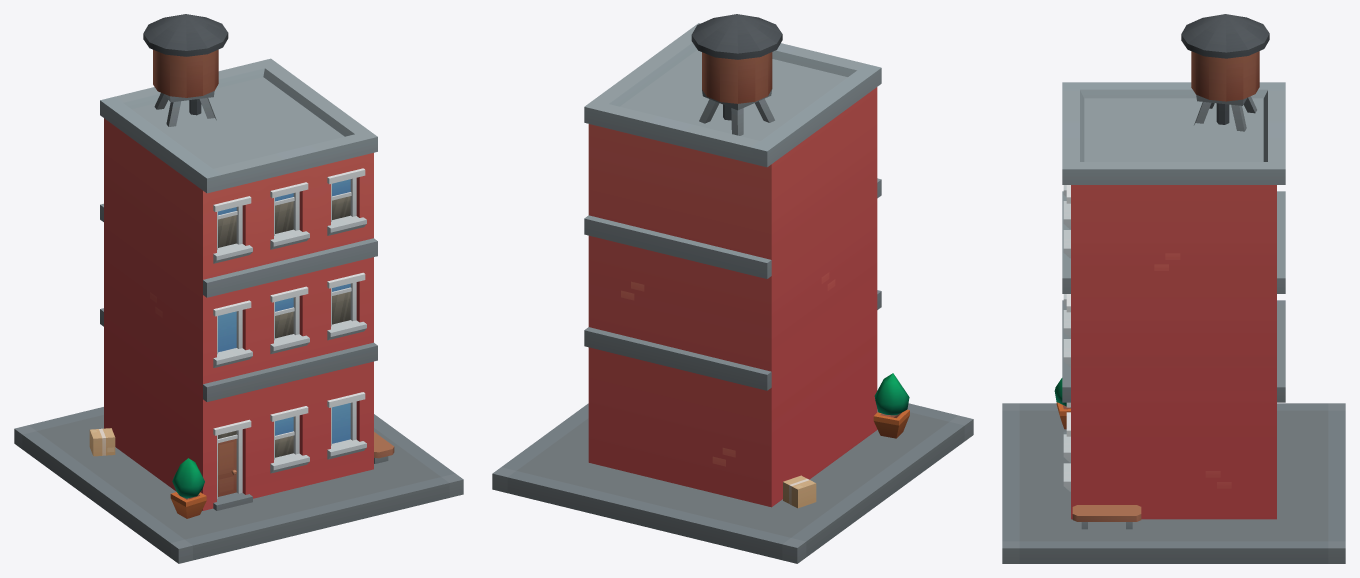
The model's file is building_free_model_b.glb.
The picture shows the model from 3 angles, left to right: view 1: azimuth 30°, elevation 25°; view 2: azimuth 150°, elevation 25°; view 3: azimuth 270°, elevation 25°; orthographic projection. The views are drawn at different scales.
Visible parts, largest first — view 1: building_C; view 2: building_C; view 3: building_C.
Part boxes in pixels (left/top/right/bottom): building_C: left=14, top=14, right=463, bottom=563; building_C: left=492, top=14, right=973, bottom=563; building_C: left=1002, top=14, right=1345, bottom=563.
Bounding box in the file's own units: 2 × 2.98 × 2.
Materials: 1 (1 with a texture image).
